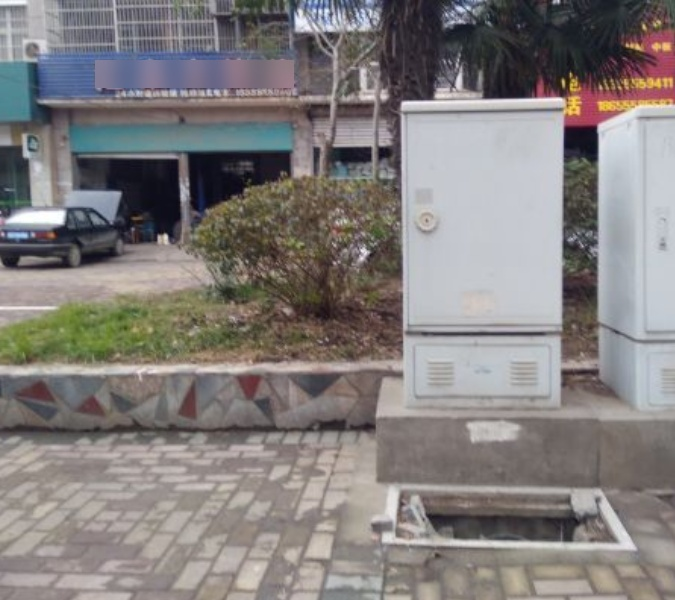lose: (383, 479, 637, 561)
